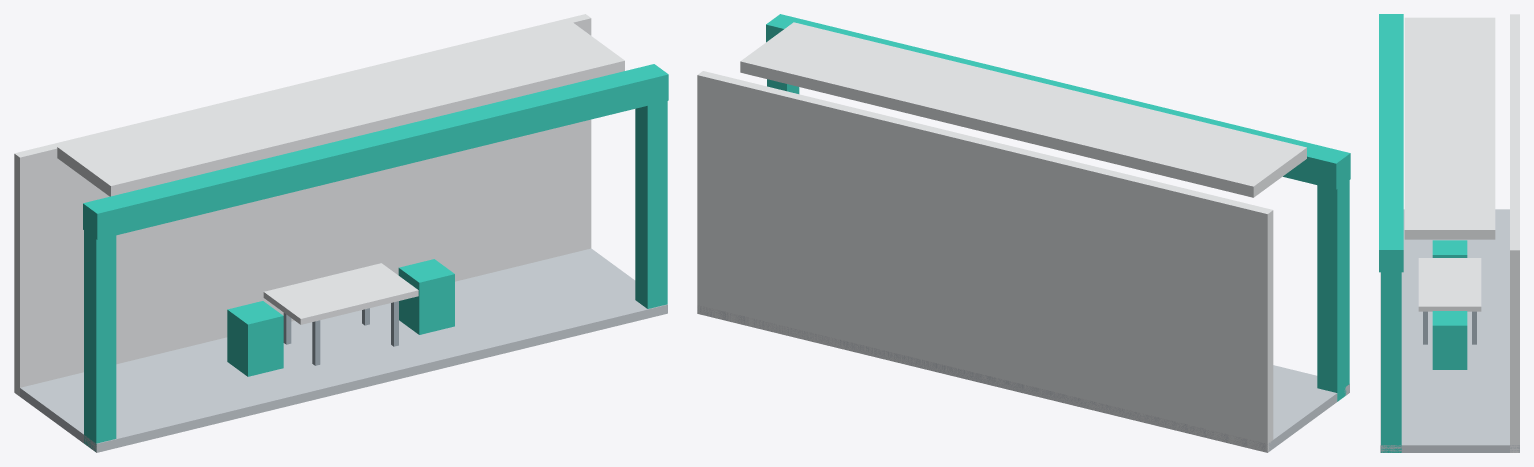
3 views of the same model, side by side, from view 1: azimuth 30°, elevation 25°; view 2: azimuth 150°, elevation 25°; view 3: azimuth 270°, elevation 25° (orthographic). The views are drawn at different scales.
Visible parts, largest first — view 1: Exhibition Booth Concept; view 2: Exhibition Booth Concept; view 3: Exhibition Booth Concept.
Part boxes in pixels (x1,y1,x2,y2): Exhibition Booth Concept: (14,14,668,452); Exhibition Booth Concept: (697,14,1350,452); Exhibition Booth Concept: (1379,14,1519,452).
Size of the model in its own units: 8 by 3.34 by 2.01.
